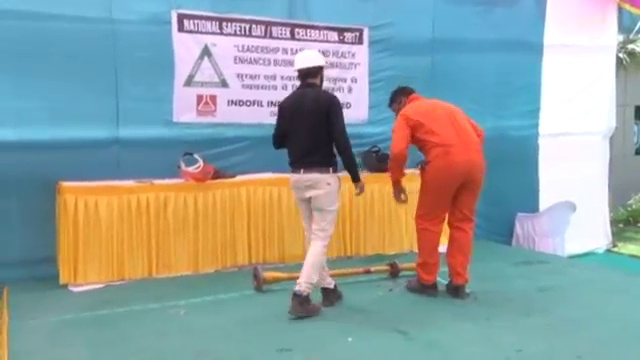helmet: (292, 49, 329, 72)
helmet_off: (387, 84, 416, 114)
helmet_on: (291, 47, 330, 89)
person: (273, 47, 365, 314), (386, 83, 489, 301)
